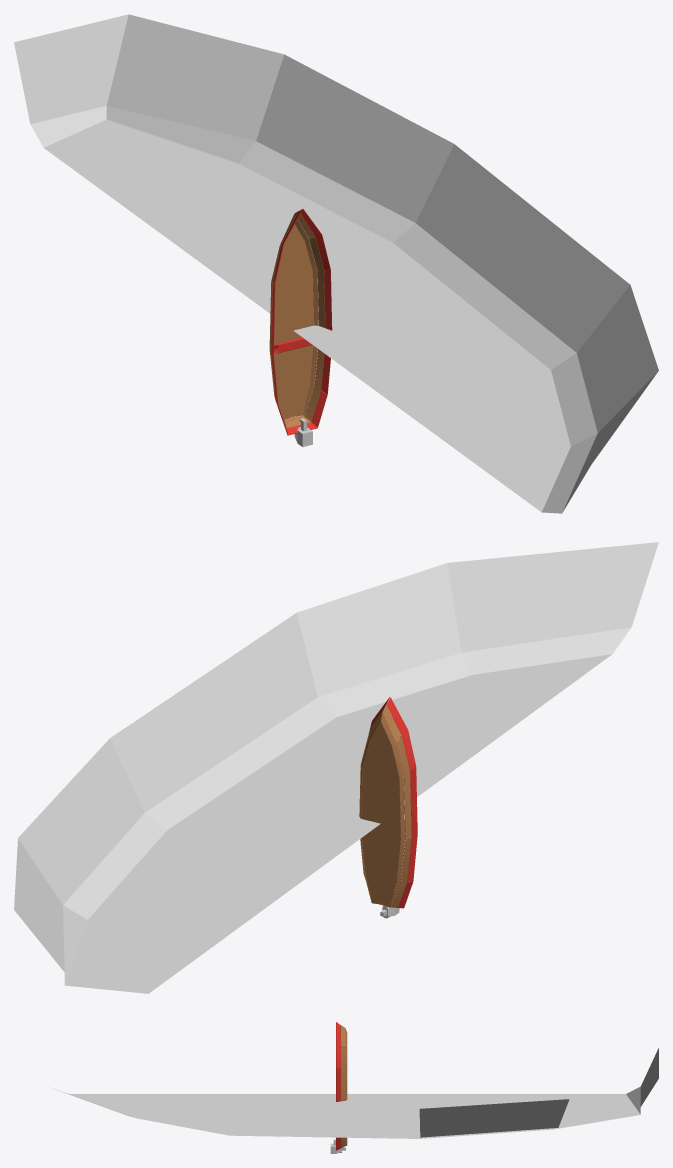
The model's file is boat2.gltf.
The picture shows the model from 3 angles, top to bottom: view 1: azimuth 30°, elevation 25°; view 2: azimuth 150°, elevation 25°; view 3: azimuth 270°, elevation 25°; orthographic projection. The views are drawn at different scales.
Visible parts, largest first — view 1: Plane.001, boat.001, boat, boat.003, boat.002; view 2: Plane.001, boat.001, boat.003, boat, boat.002; view 3: Plane.001, boat, boat.003, boat.002.
Boxes of the visible parts, box(x1,y1,x2,y2) form: Plane.001: box(14, 14, 658, 513); boat.001: box(273, 224, 314, 419); boat: box(271, 209, 332, 435); boat.003: box(269, 211, 325, 428); boat.002: box(277, 219, 318, 421); Plane.001: box(14, 542, 658, 993); boat.001: box(361, 722, 400, 907); boat.003: box(359, 705, 411, 907); boat: box(370, 697, 417, 908); boat.002: box(360, 713, 405, 907); Plane.001: box(52, 1048, 658, 1138); boat: box(336, 1022, 340, 1150); boat.003: box(340, 1025, 345, 1148); boat.002: box(345, 1029, 347, 1145).
Size of the model in its own units: 1.4 by 1.22 by 5.48.
